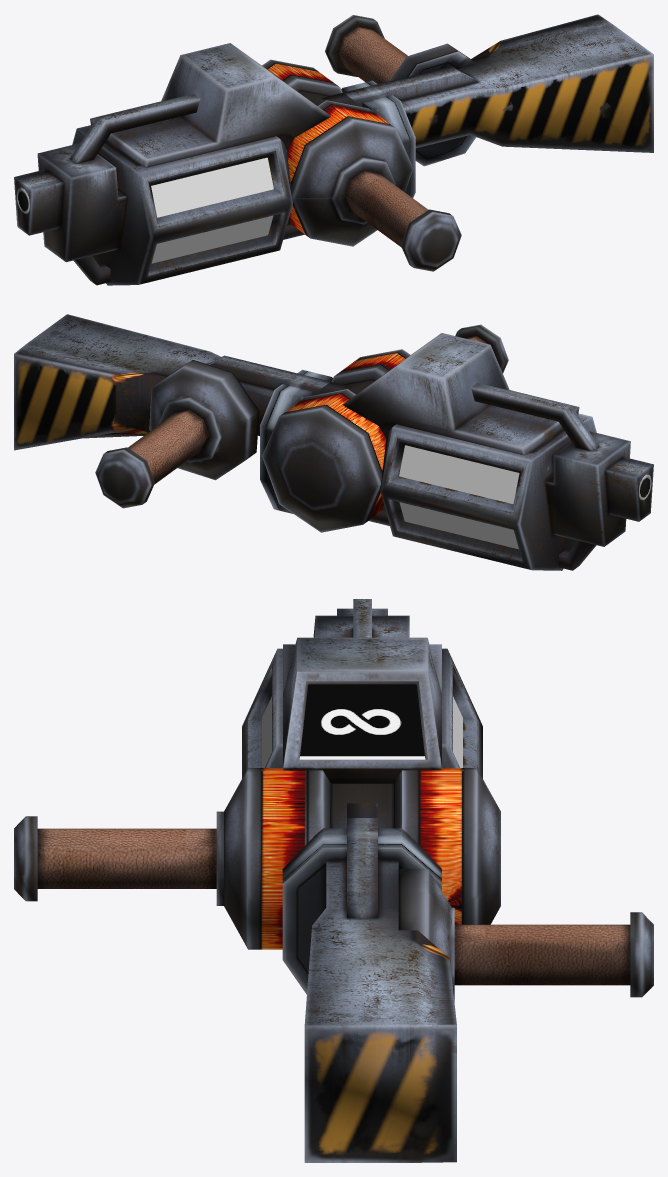
Rendered from GravGun.fbx.
The picture shows the model from 3 angles, top to bottom: view 1: azimuth 30°, elevation 25°; view 2: azimuth 150°, elevation 25°; view 3: azimuth 270°, elevation 25°; orthographic projection. The views are drawn at different scales.
Visible parts, largest first — view 1: Mesh.001; view 2: Mesh.001; view 3: Mesh.001.
Boxes of the visible parts, left/top/right/bottom form: Mesh.001: left=14, top=14, right=653, bottom=285; Mesh.001: left=14, top=314, right=653, bottom=570; Mesh.001: left=14, top=599, right=653, bottom=1162.
Size of the model in its own units: 1.27 by 0.3775 by 0.8344.
